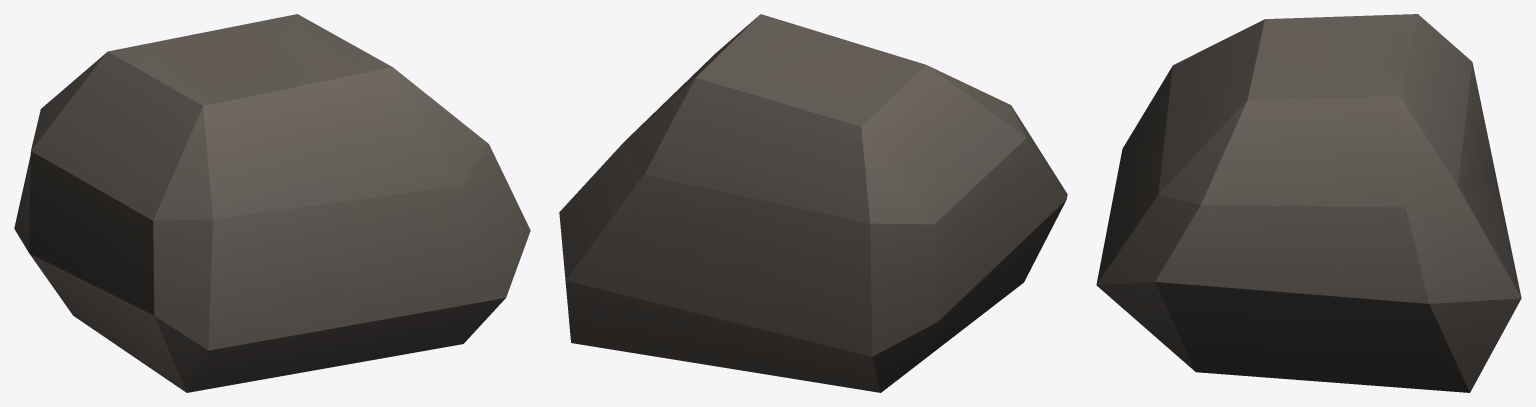
The model's file is Stone_Squarish_A.fbx.
The picture shows the model from 3 angles, left to right: view 1: azimuth 30°, elevation 25°; view 2: azimuth 150°, elevation 25°; view 3: azimuth 270°, elevation 25°; orthographic projection. The views are drawn at different scales.
Visible parts, largest first — view 1: Stone_Squarish_A; view 2: Stone_Squarish_A; view 3: Stone_Squarish_A.
Part boxes in pixels (x1,y1,x2,y2): Stone_Squarish_A: [14, 14, 530, 392]; Stone_Squarish_A: [559, 14, 1067, 392]; Stone_Squarish_A: [1096, 14, 1521, 392].
Size of the model in its own units: 24.34 by 24.46 by 16.3.
1 material, 1 textured.
